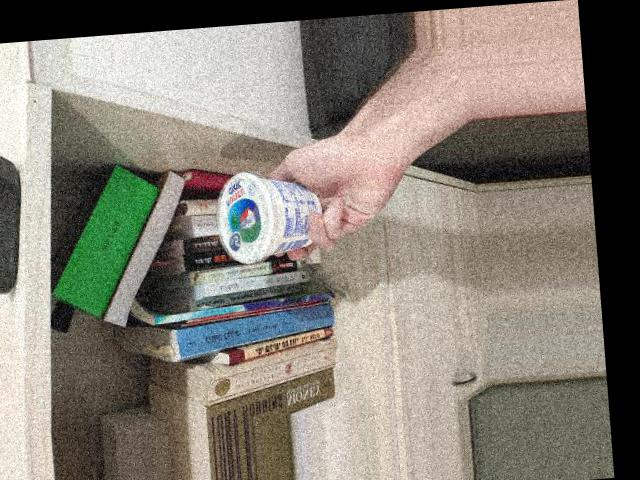cotage: (209, 170, 342, 267)
